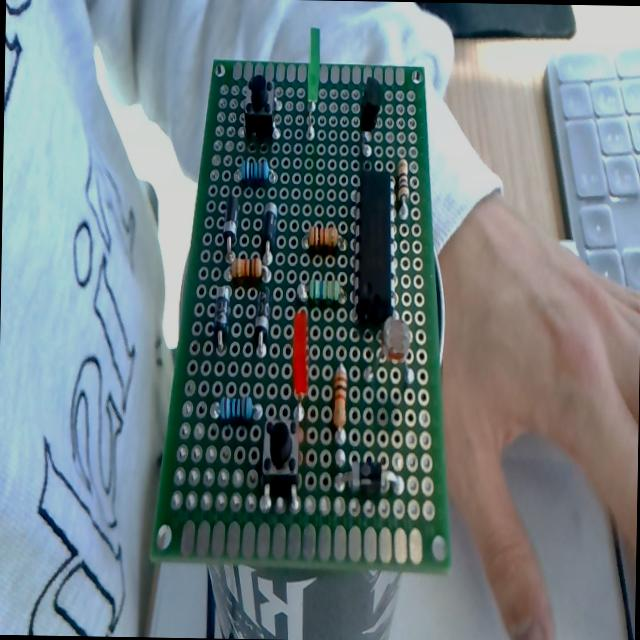IC: (354, 166, 395, 326)
cds: (376, 316, 413, 382)
diode: (338, 461, 400, 497), (252, 290, 270, 357), (212, 284, 230, 350), (260, 202, 278, 262), (222, 192, 238, 259)
led: (292, 310, 310, 462), (305, 26, 321, 140)
resistor: (215, 394, 262, 426), (331, 365, 348, 449), (395, 156, 415, 224), (304, 272, 344, 302), (239, 156, 270, 188), (307, 222, 338, 254), (230, 254, 262, 281)
switch: (262, 414, 299, 494), (242, 74, 277, 147)
transistor: (358, 77, 382, 155)
